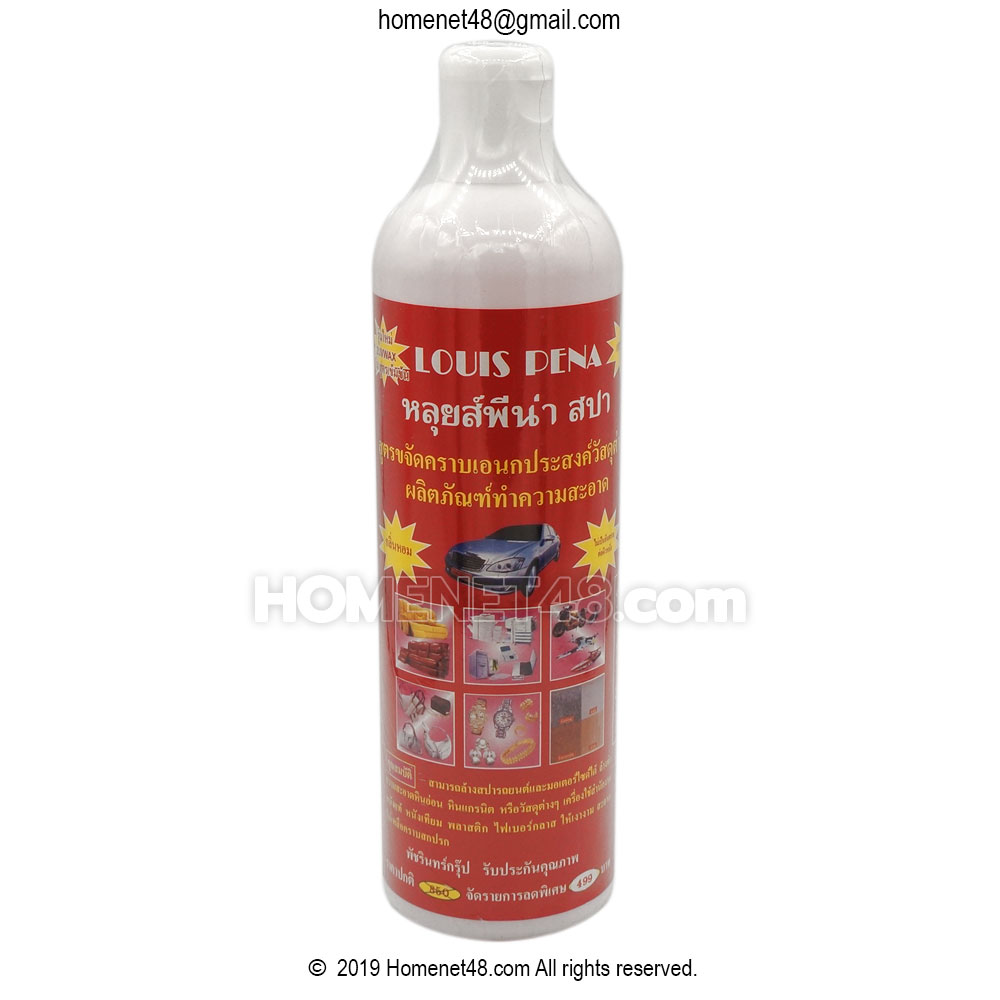Cleaning_solution: (368, 36, 625, 949)
